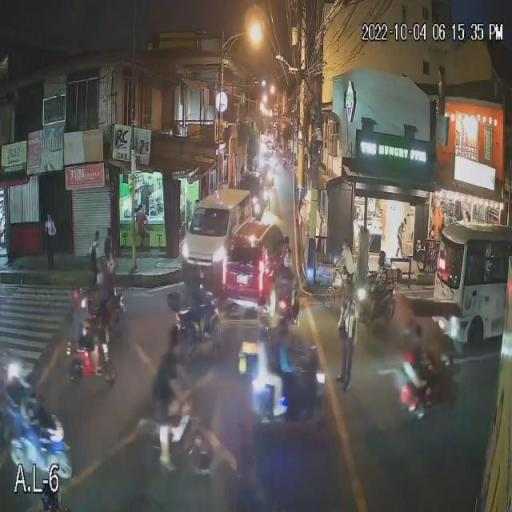helmet: (1, 359, 36, 388), (276, 318, 294, 338), (258, 316, 272, 338), (284, 252, 294, 268), (376, 250, 386, 264)
motorcycle: (0, 380, 73, 484), (252, 342, 326, 424), (155, 394, 216, 482), (394, 339, 452, 422), (67, 314, 117, 387), (357, 268, 400, 326), (171, 301, 223, 348), (272, 288, 302, 338)
rider: (150, 328, 192, 464), (0, 353, 55, 442), (258, 308, 302, 410), (398, 310, 440, 386), (78, 276, 116, 359), (185, 275, 220, 336), (272, 260, 296, 312), (367, 250, 392, 297)
